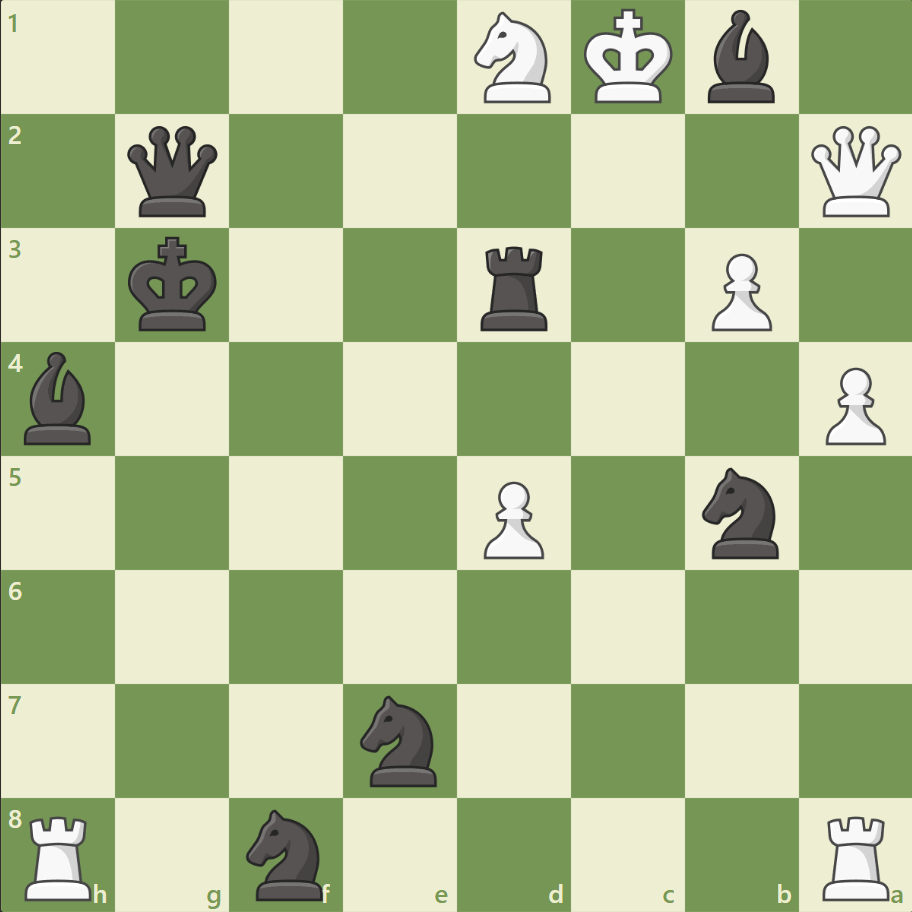K: (579, 4, 679, 112)
N: (465, 7, 562, 110)
P: (474, 473, 549, 564), (701, 246, 776, 337), (815, 359, 889, 450)
Q: (805, 122, 904, 222)
R: (814, 806, 897, 904), (19, 806, 102, 904)
b: (698, 6, 782, 109), (17, 347, 101, 449)
k: (124, 231, 224, 339)
n: (351, 688, 449, 791), (692, 461, 789, 564), (238, 802, 335, 904)
q: (124, 122, 223, 222)
r: (473, 239, 556, 336)
